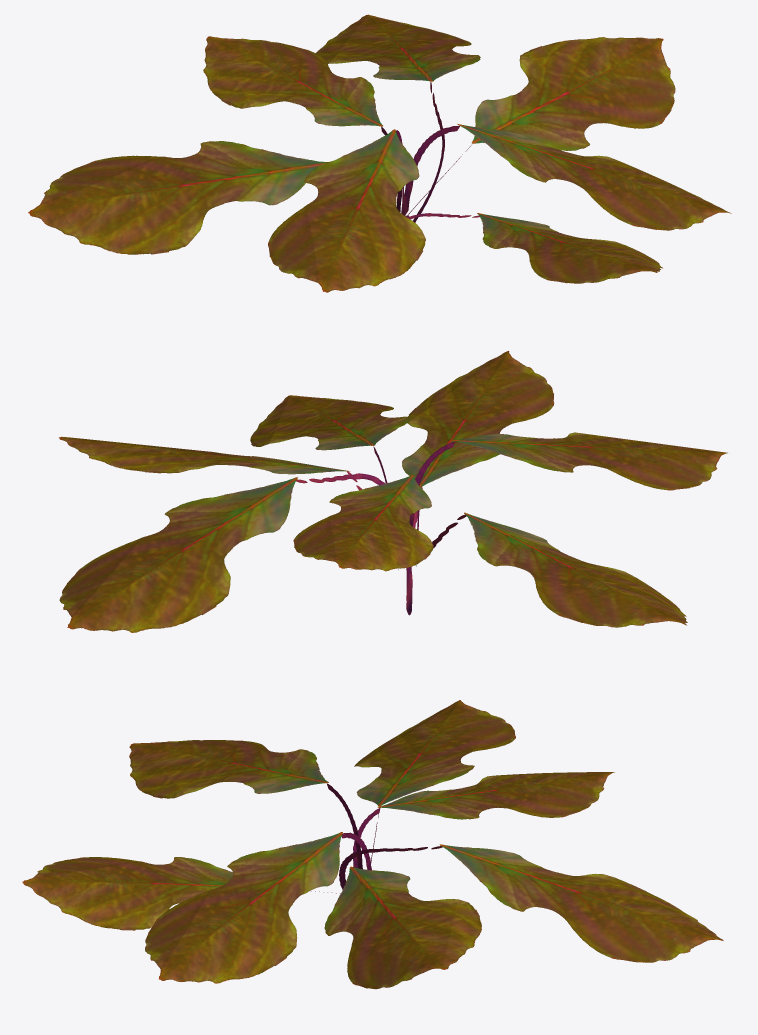
File: Row Root B6.fbx
3 renders of one model, top to bottom at view 1: azimuth 30°, elevation 25°; view 2: azimuth 150°, elevation 25°; view 3: azimuth 270°, elevation 25°, orthographic. The views are drawn at different scales.
Visible parts, largest first — view 1: Row Root B6; view 2: Row Root B6; view 3: Row Root B6.
Boxes of the visible parts, x1=… form: Row Root B6: x1=28, y1=14, x2=731, y2=292; Row Root B6: x1=59, y1=351, x2=727, y2=632; Row Root B6: x1=22, y1=700, x2=723, y2=989.
Size of the model in its own units: 215 by 54.19 by 213.
